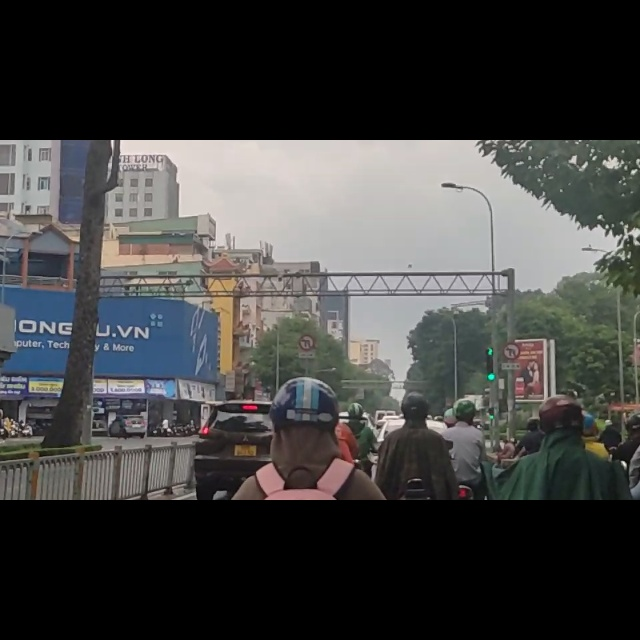bien_cam: (297, 345, 315, 377), (502, 359, 519, 392)
